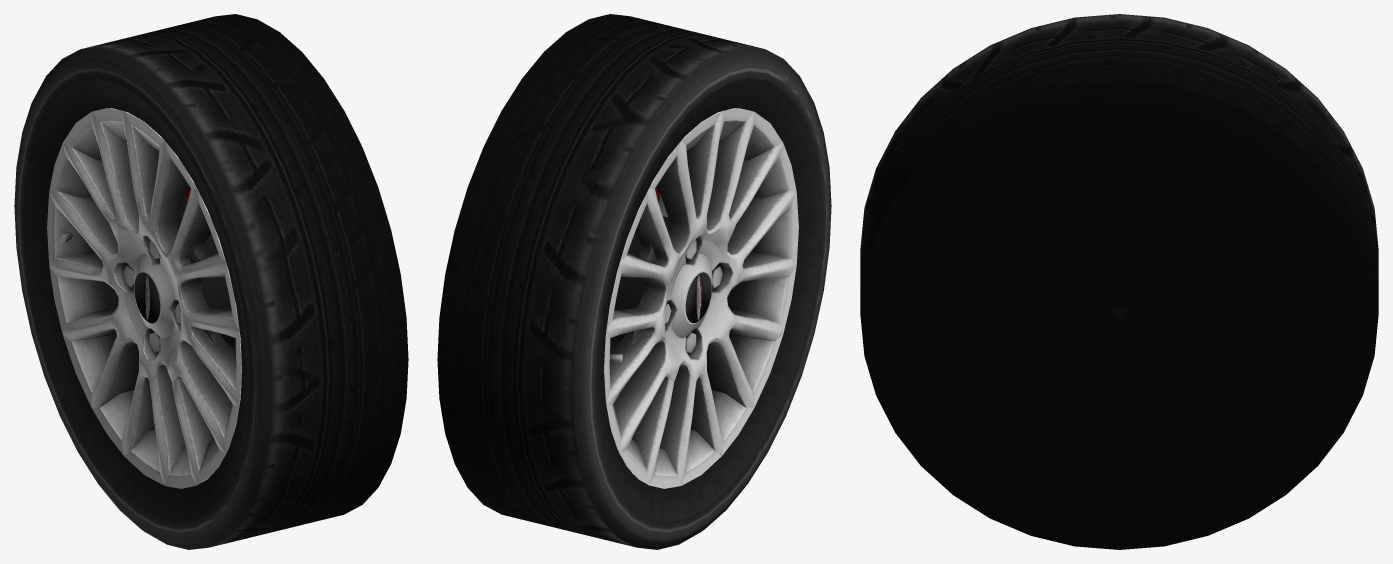
File: miniJCV.fbx
The picture shows the model from 3 angles, left to right: view 1: azimuth 30°, elevation 25°; view 2: azimuth 150°, elevation 25°; view 3: azimuth 270°, elevation 25°; orthographic projection.
Parts seen in each view (by area): view 1: Tirerl_garage, Tirerr_garage, Rimrl_garage_vcolor, Rimrl_garage_lable; view 2: Tirerr_garage, Tirerl_garage, Rimrl_garage_vcolor, Rimrr_garage_vcolor, Rimrl_garage_lable; view 3: Tirerr_garage, Tirerl_garage, Tire_LP_rl_garage, Tire_LP_rr_garage.
Boxes of the visible parts, left/top/right/bottom form: Tirerl_garage: left=14, top=20, right=408, bottom=549; Tirerr_garage: left=14, top=14, right=408, bottom=548; Rimrl_garage_vcolor: left=47, top=108, right=241, bottom=488; Rimrl_garage_lable: left=134, top=272, right=160, bottom=323; Tirerr_garage: left=438, top=14, right=831, bottom=549; Tirerl_garage: left=437, top=27, right=831, bottom=541; Rimrl_garage_vcolor: left=604, top=108, right=798, bottom=488; Rimrr_garage_vcolor: left=610, top=219, right=669, bottom=349; Rimrl_garage_lable: left=685, top=272, right=711, bottom=323; Tirerr_garage: left=860, top=14, right=1378, bottom=549; Tirerl_garage: left=860, top=14, right=1378, bottom=549; Tire_LP_rl_garage: left=928, top=138, right=1316, bottom=485; Tire_LP_rr_garage: left=922, top=138, right=1315, bottom=484.
Size of the model in its own units: 0.8716 by 2.64 by 2.64.
